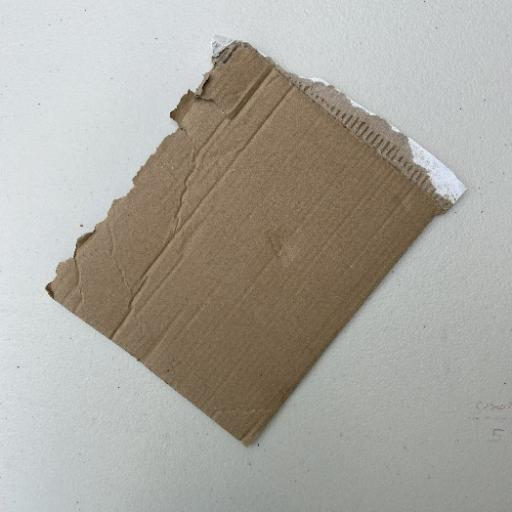Cardboard: (44, 36, 467, 448)
